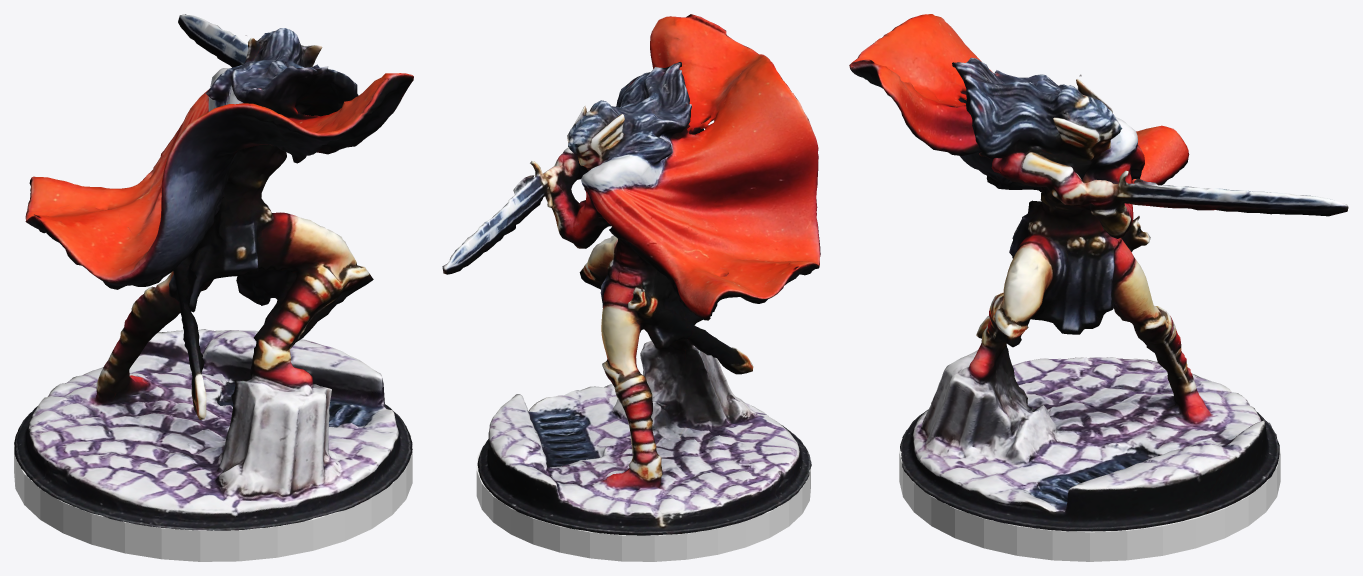
3 renders of one model, left to right at view 1: azimuth 30°, elevation 25°; view 2: azimuth 150°, elevation 25°; view 3: azimuth 270°, elevation 25°, orthographic. The views are drawn at different scales.
Parts seen in each view (by area): view 1: default, LadySif; view 2: default, LadySif; view 3: default, LadySif.
Part boxes in pixels (x1,y1,x2,y2): default: (14,14,413,530); LadySif: (14,404,412,561); default: (442,14,820,535); LadySif: (476,433,810,561); default: (849,14,1348,531); LadySif: (899,436,1280,561).
Bounding box in the file's own units: 1.41 × 1.78 × 1.8.
Materials: 2 (1 with a texture image).
